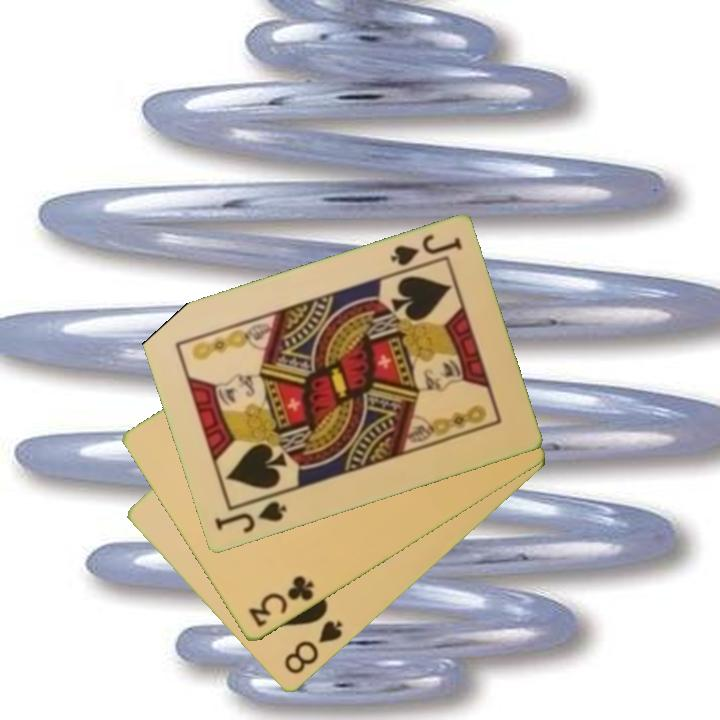3c: (244, 572, 317, 631)
8s: (280, 617, 346, 678)
Js: (386, 231, 465, 276), (210, 498, 290, 537)
